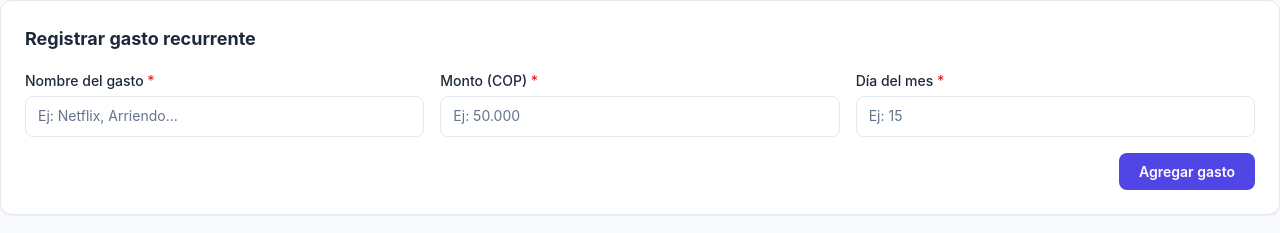
Test: ExpenseForm — envío exitoso › limpia el formulario después de un envío válido
The width and height of the screenshot is (1280, 233).
In the field labelled "Nombre del gasto": [225, 116] box [25,96,424,137], type "Spotify"
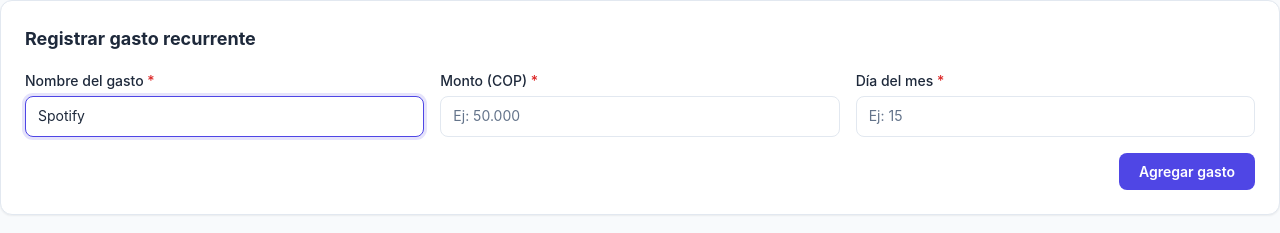
In the field labelled "Monto (COP)": [640, 116] box [440,96,840,137], type "15000"
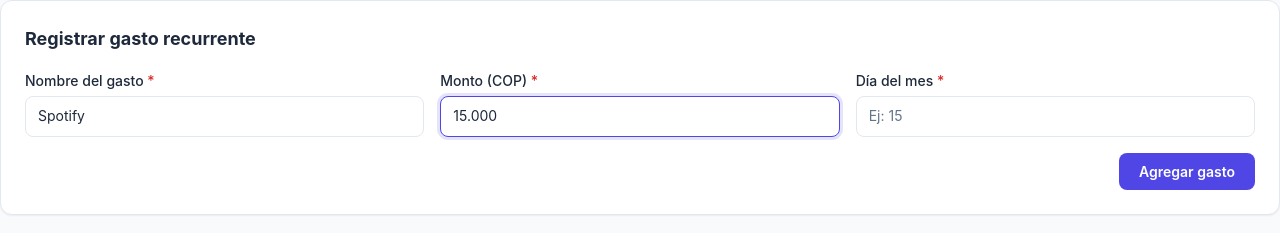
In the number field labelled "Día del mes": [1055, 116] box [856,96,1255,137], type "5"
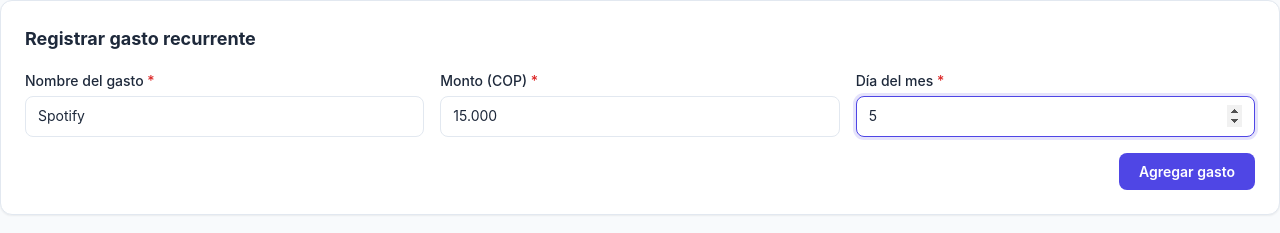
Click the button "Agregar gasto": [1187, 171] box [1119,153,1255,190]
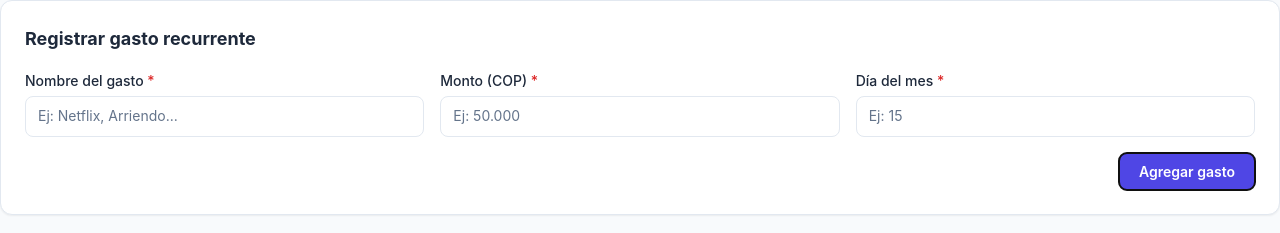
Expected: the field labelled "Nombre del gasto" is empty, [25,96,424,137]
Expected: the field labelled "Monto (COP)" is empty, [440,96,840,137]
Expected: the number field labelled "Día del mes" is not empty, [856,96,1255,137]
